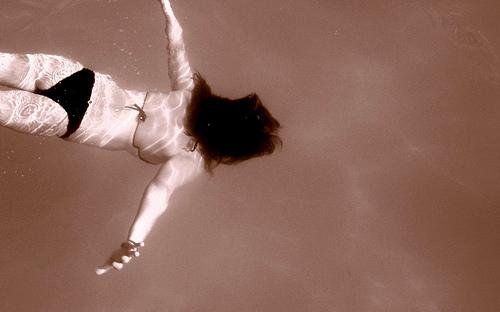swimmer: (0, 3, 278, 276)
